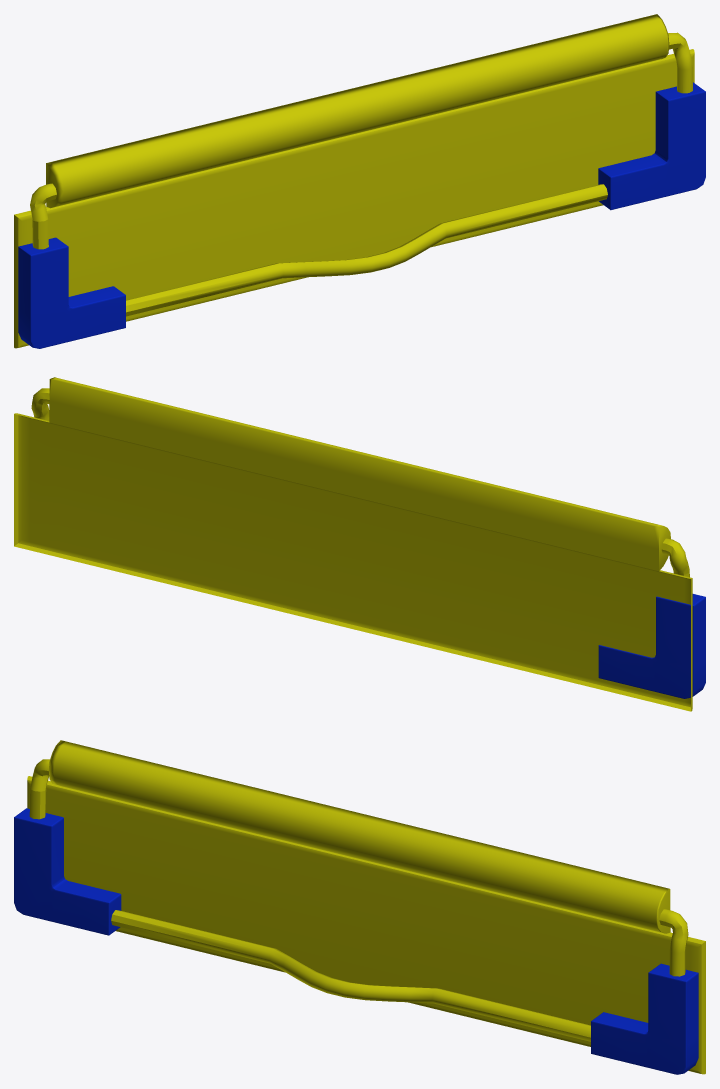
The model's file is ClipboardClip.fbx.
3 renders of one model, top to bottom at view 1: azimuth 30°, elevation 25°; view 2: azimuth 150°, elevation 25°; view 3: azimuth 330°, elevation 25°, orthographic.
Visible parts, largest first — view 1: ClipBkac1; view 2: ClipBkac1; view 3: ClipBkac1.
Part boxes in pixels (x1,y1,x2,y2): ClipBkac1: [14, 14, 705, 348]; ClipBkac1: [14, 377, 705, 711]; ClipBkac1: [14, 740, 705, 1074].
Size of the model in its own units: 4.45 by 1.11 by 0.3452.
